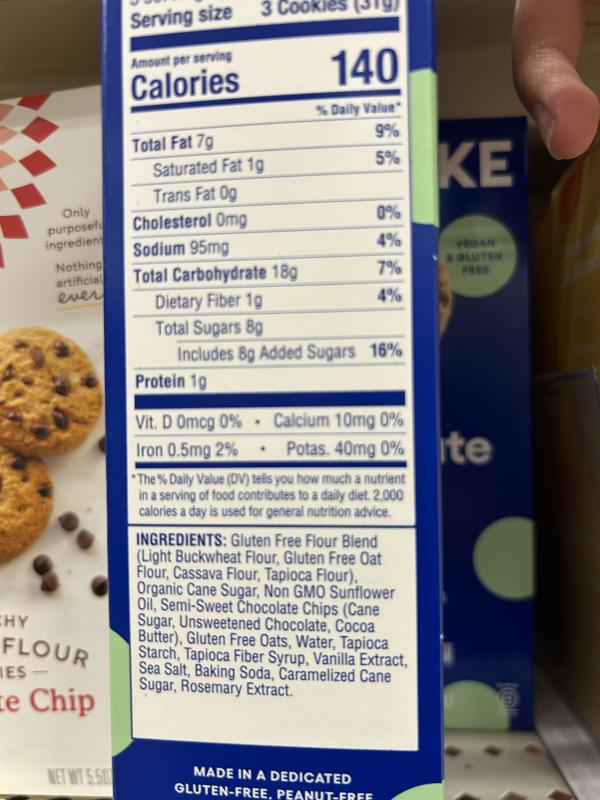ingredients: (134, 530, 409, 698)
